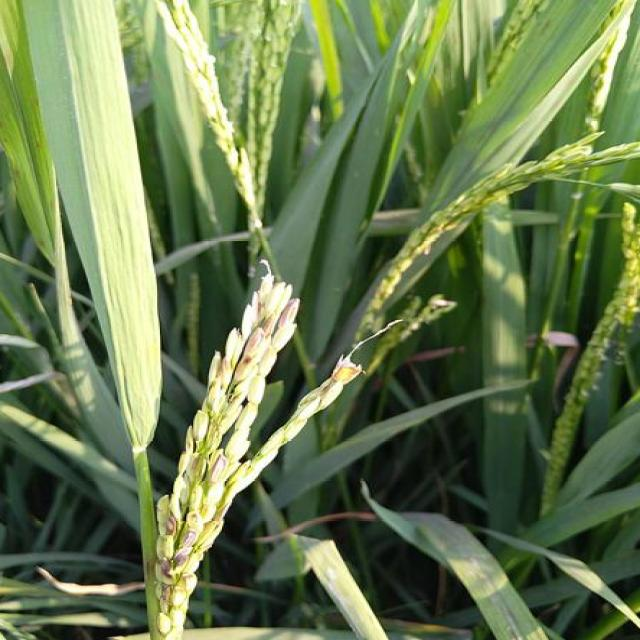Panicle Blight: (189, 274, 298, 490), (157, 495, 199, 634), (287, 360, 360, 423)
